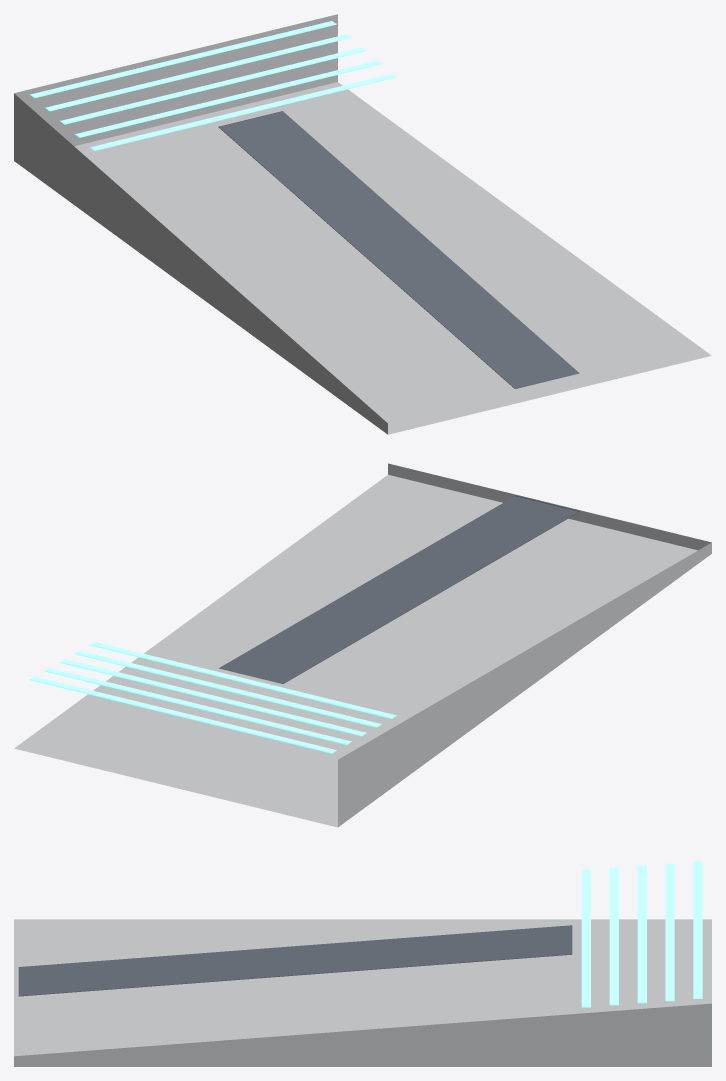
Rendered from ext_kerb_ramp_01.glb.
3 views of the same model, one above another, from view 1: azimuth 30°, elevation 25°; view 2: azimuth 150°, elevation 25°; view 3: azimuth 270°, elevation 25° (orthographic). The views are drawn at different scales.
Parts seen in each view (by area): view 1: Ramp, Guide_Strip, Tactile_Bars; view 2: Ramp, Guide_Strip, Tactile_Bars; view 3: Ramp, Guide_Strip, Tactile_Bars.
Part boxes in pixels (left/top/right/bottom): Ramp: left=14, top=14, right=711, bottom=434; Guide_Strip: left=218, top=111, right=579, bottom=389; Tactile_Bars: left=29, top=21, right=396, bottom=150; Ramp: left=14, top=463, right=711, bottom=827; Guide_Strip: left=219, top=495, right=579, bottom=683; Tactile_Bars: left=29, top=641, right=396, bottom=753; Ramp: left=14, top=919, right=711, bottom=1066; Guide_Strip: left=18, top=925, right=572, bottom=996; Tactile_Bars: left=581, top=861, right=702, bottom=1007.
Size of the model in its own units: 1.5 by 0.3022 by 3.
